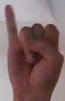I: (0, 1, 65, 101)
